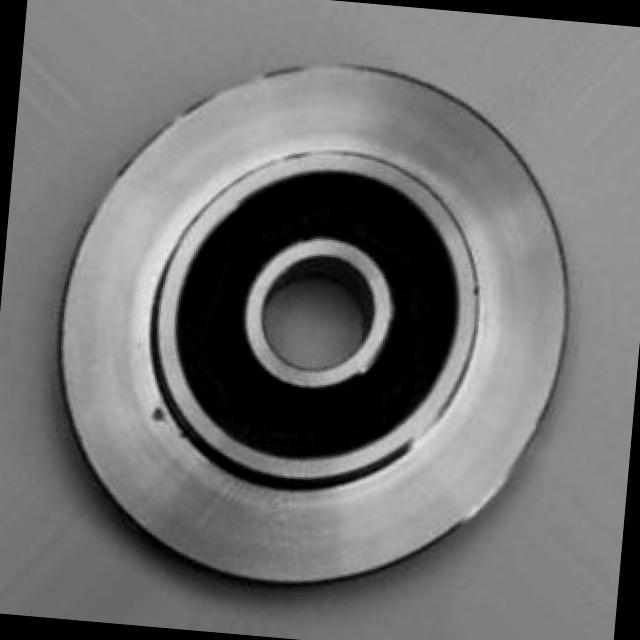Defect: (148, 402, 170, 434)
